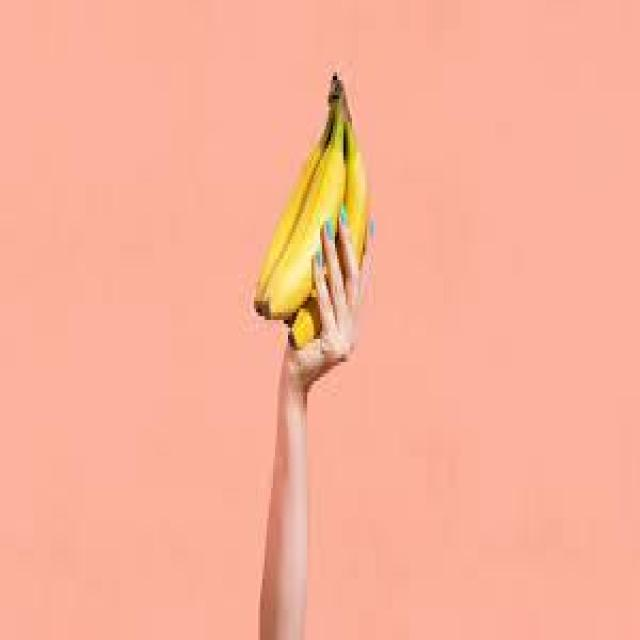Banana: (258, 96, 344, 318)
